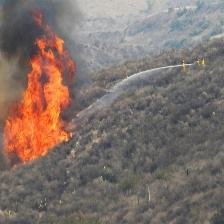fire: (1, 34, 74, 160)
smoke: (1, 2, 46, 71)
